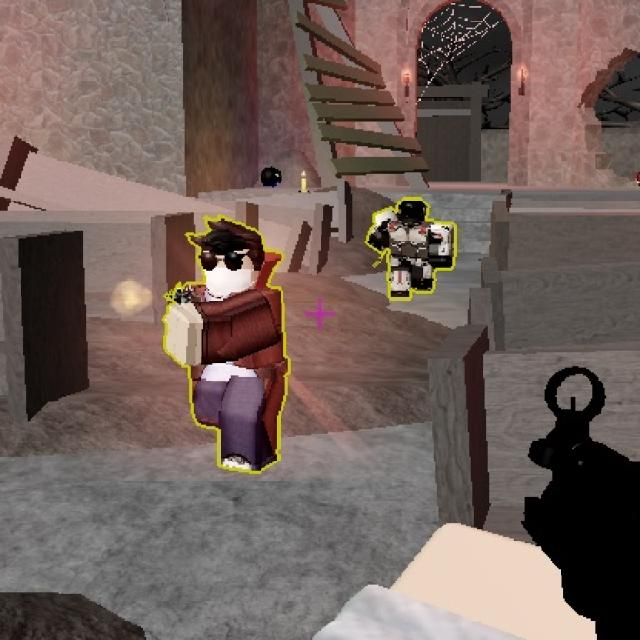player: (182, 211, 288, 476), (377, 186, 434, 306)
